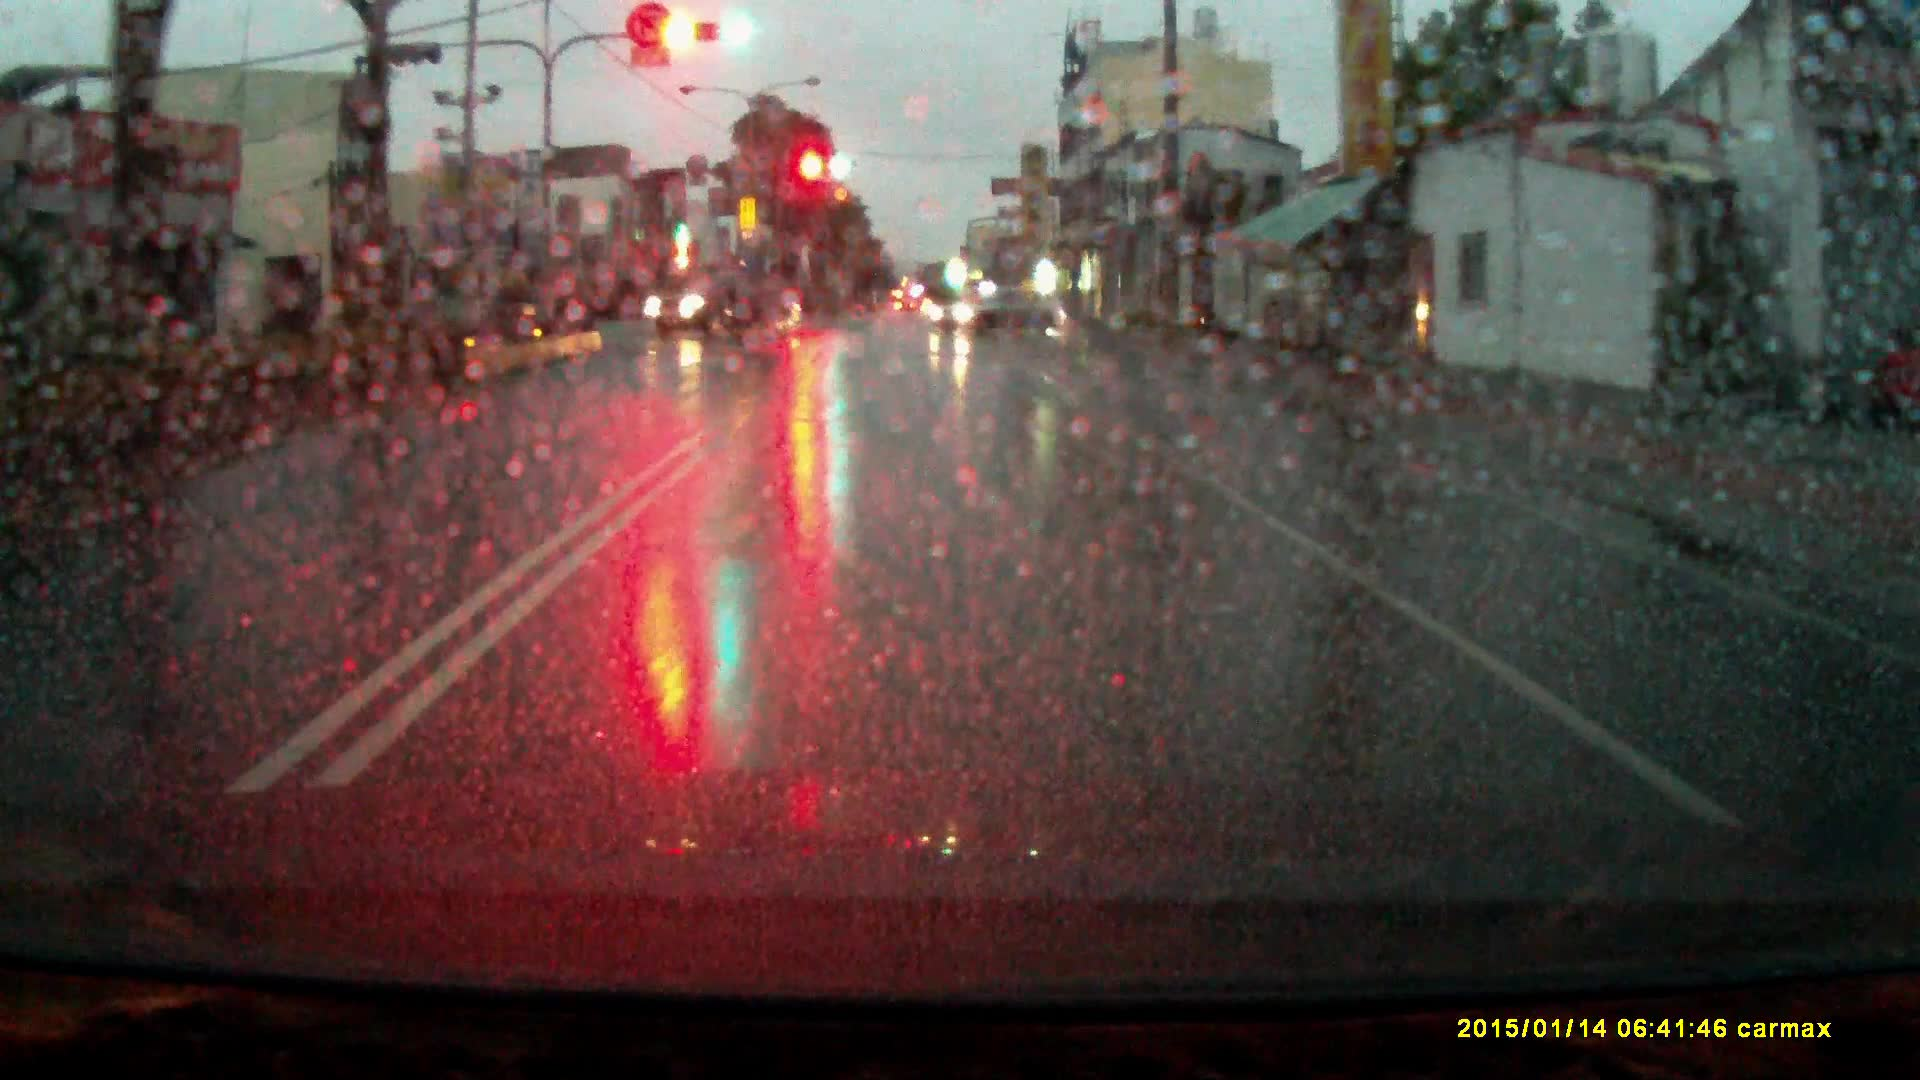vehicle: (645, 274, 804, 342), (919, 289, 1062, 338)
